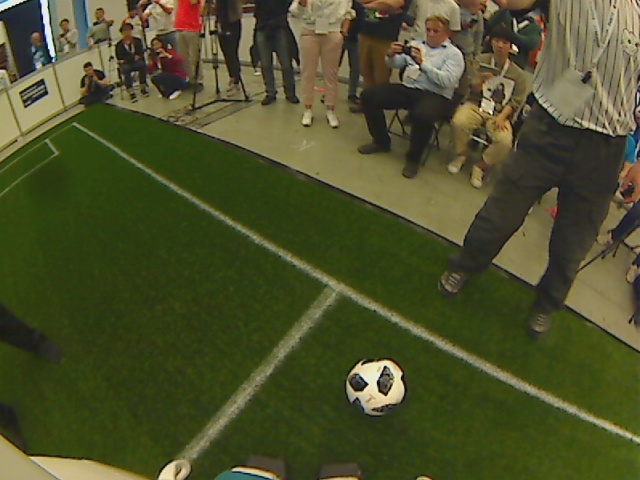ball: (344, 357, 407, 414)
